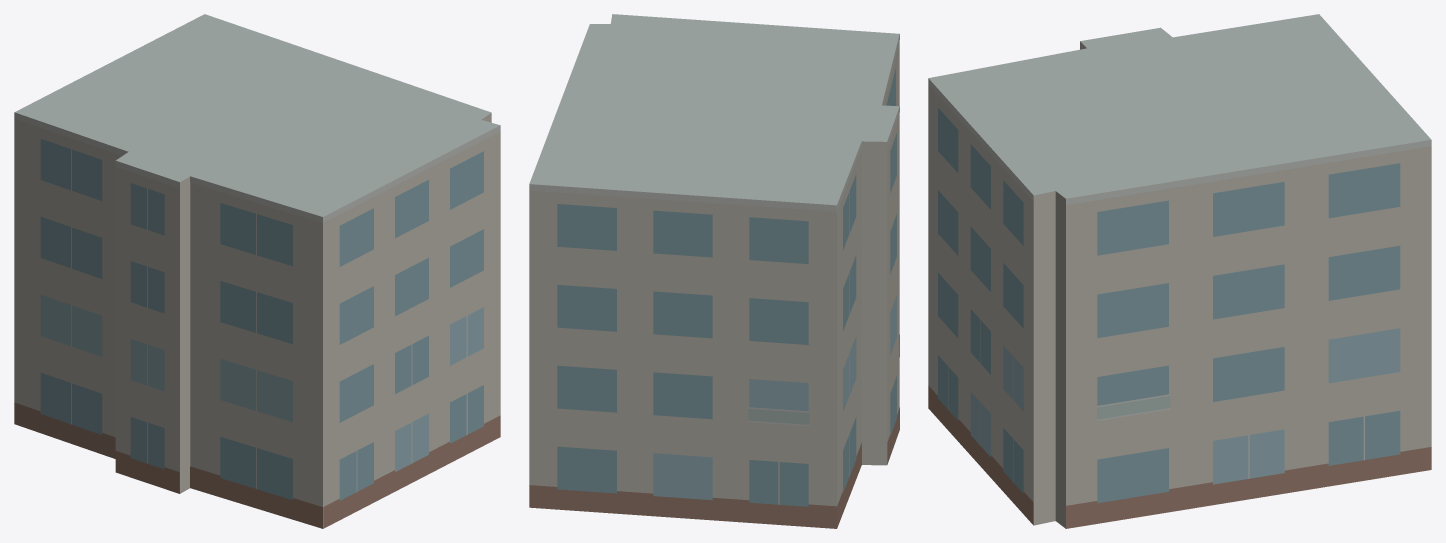
The model's file is survey-upis-32743119.glb.
3 views of the same model, side by side, from view 1: azimuth 30°, elevation 25°; view 2: azimuth 150°, elevation 25°; view 3: azimuth 270°, elevation 25° (orthographic). The views are drawn at different scales.
Parts seen in each view (by area): view 1: survey-upis-32743119.tmp; view 2: survey-upis-32743119.tmp; view 3: survey-upis-32743119.tmp.
Part boxes in pixels (<box>): survey-upis-32743119.tmp: <box>14,14,500,528</box>; survey-upis-32743119.tmp: <box>529,14,899,528</box>; survey-upis-32743119.tmp: <box>928,14,1431,528</box>.
Bounding box in the file's own units: 15.02 × 12.5 × 17.28.
